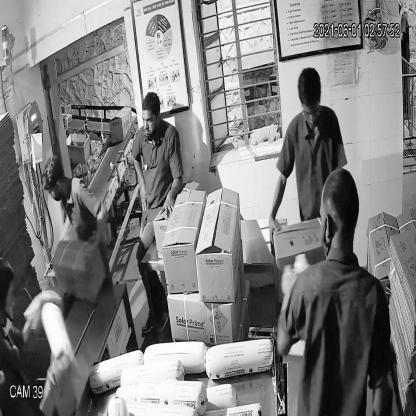no_goggles: (138, 108, 162, 128)
